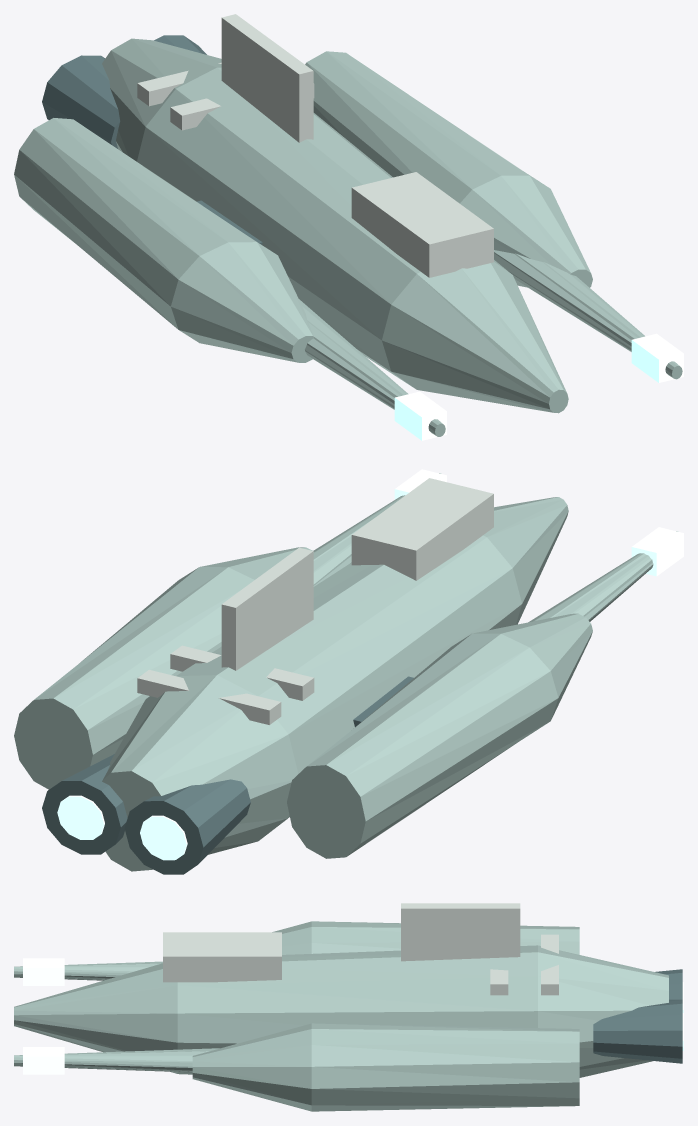
3 renders of one model, top to bottom at view 1: azimuth 30°, elevation 25°; view 2: azimuth 150°, elevation 25°; view 3: azimuth 270°, elevation 25°, orthographic. The views are drawn at different scales.
Bounding box in the file's own units: 2.4 × 1.35 × 4.68.
